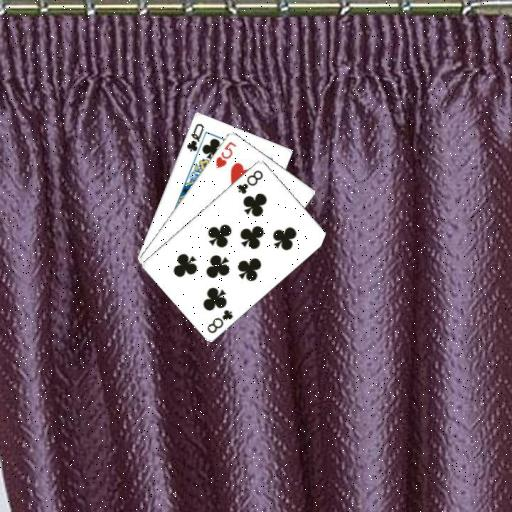5H: (213, 138, 238, 170)
8C: (234, 167, 264, 196), (205, 306, 235, 334)
QC: (184, 121, 206, 153)
